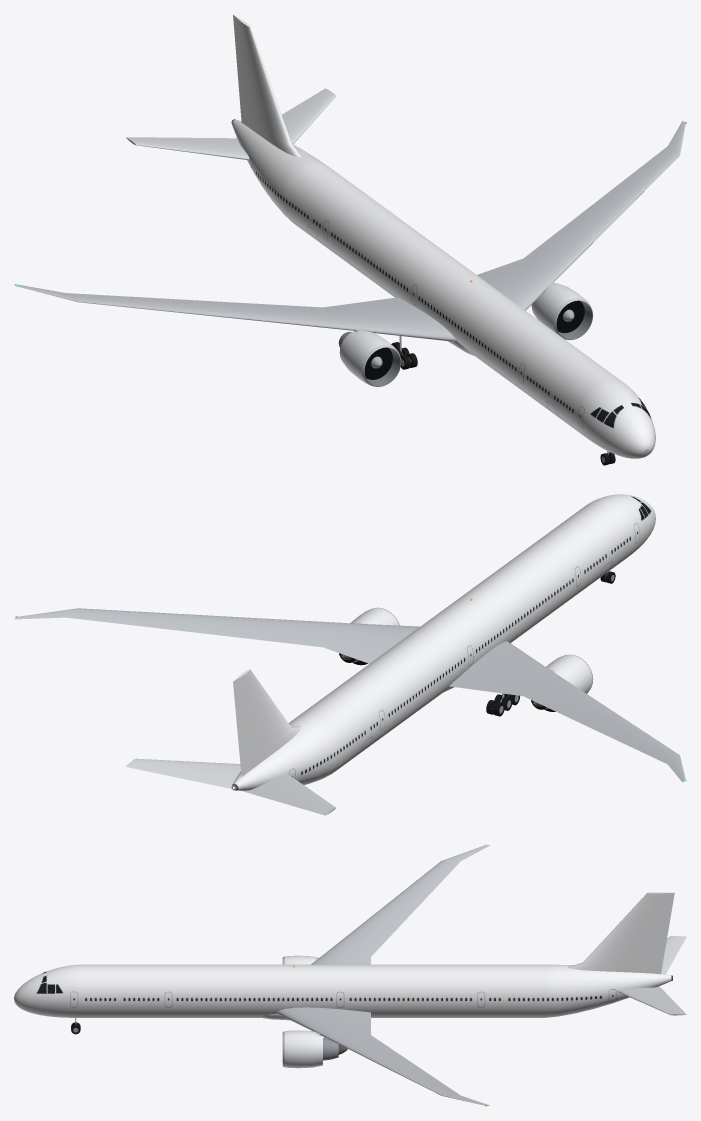
3 views of the same model, one above another, from view 1: azimuth 30°, elevation 25°; view 2: azimuth 150°, elevation 25°; view 3: azimuth 270°, elevation 25° (orthographic). The views are drawn at different scales.
Parts seen in each view (by area): view 1: body; view 2: body, gear; view 3: body.
Part boxes in pixels (left/top/right/bottom): body: left=14, top=14, right=686, bottom=458; body: left=14, top=494, right=686, bottom=815; gear: left=486, top=571, right=615, bottom=716; body: left=14, top=844, right=686, bottom=1106.
Bounding box in the file's own units: 72.06 × 17.96 × 78.35.
19 materials, 1 textured.
